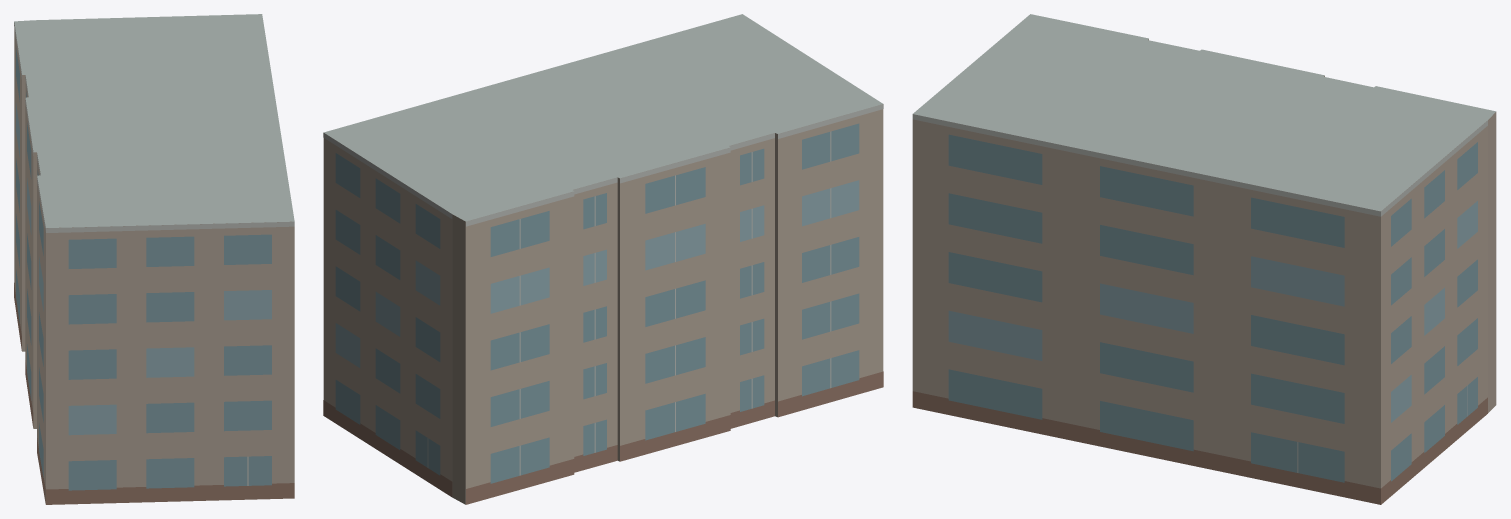
Rendered from survey-upis-32850206.glb.
3 views of the same model, side by side, from view 1: azimuth 30°, elevation 25°; view 2: azimuth 150°, elevation 25°; view 3: azimuth 270°, elevation 25° (orthographic). The views are drawn at different scales.
Parts seen in each view (by area): view 1: survey-upis-32850206.tmp; view 2: survey-upis-32850206.tmp; view 3: survey-upis-32850206.tmp.
Boxes of the visible parts, x1,y1,x2,y2 form: survey-upis-32850206.tmp: (14,14,294,504); survey-upis-32850206.tmp: (323,14,883,504); survey-upis-32850206.tmp: (912,14,1496,504).
Size of the model in its own units: 19.49 by 13.5 by 24.35.
